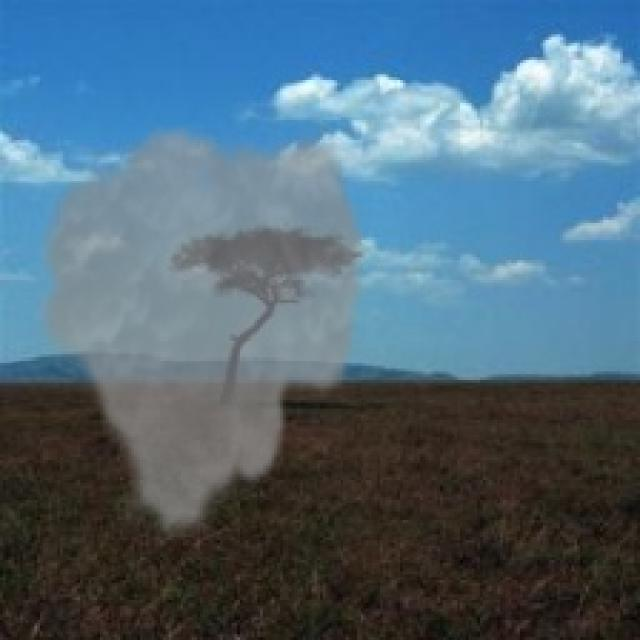Smoke: (29, 120, 372, 546)
